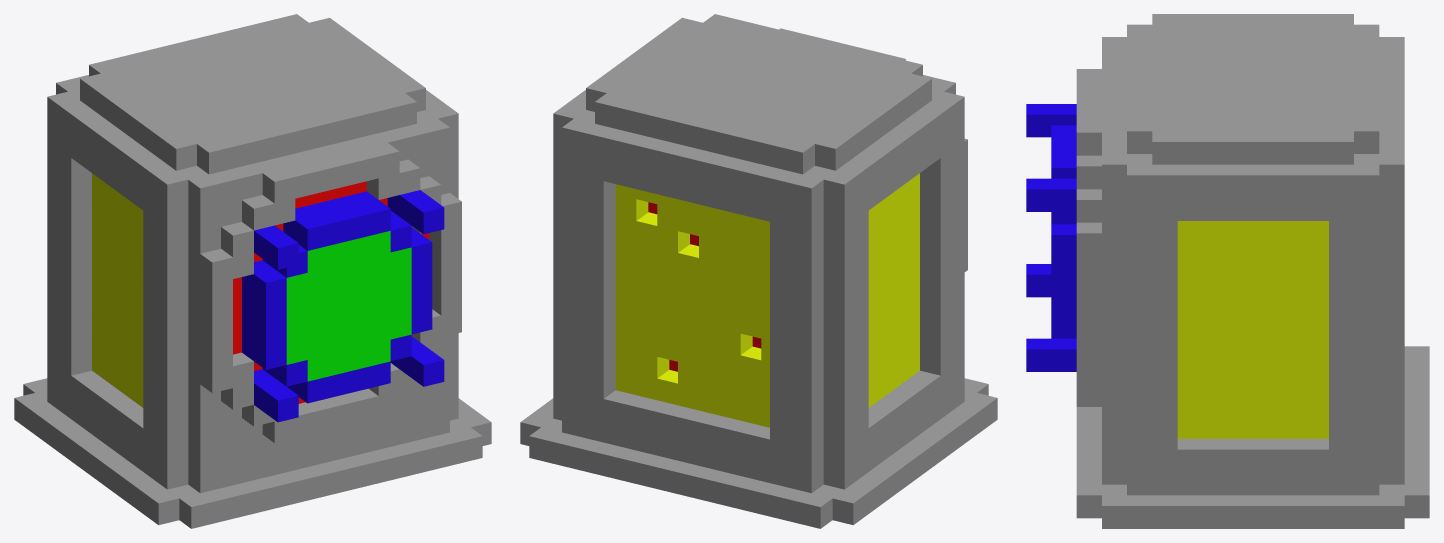
File: transmitter.fbx
3 views of the same model, side by side, from view 1: azimuth 30°, elevation 25°; view 2: azimuth 150°, elevation 25°; view 3: azimuth 270°, elevation 25° (orthographic). The views are drawn at different scales.
Visible parts, largest first — view 1: transmitter; view 2: transmitter; view 3: transmitter.
Boxes of the visible parts, x1,y1,x2,y2 form: transmitter: (14,14,491,528); transmitter: (520,14,997,528); transmitter: (1026,14,1429,528).
Size of the model in its own units: 16 by 16 by 16.
